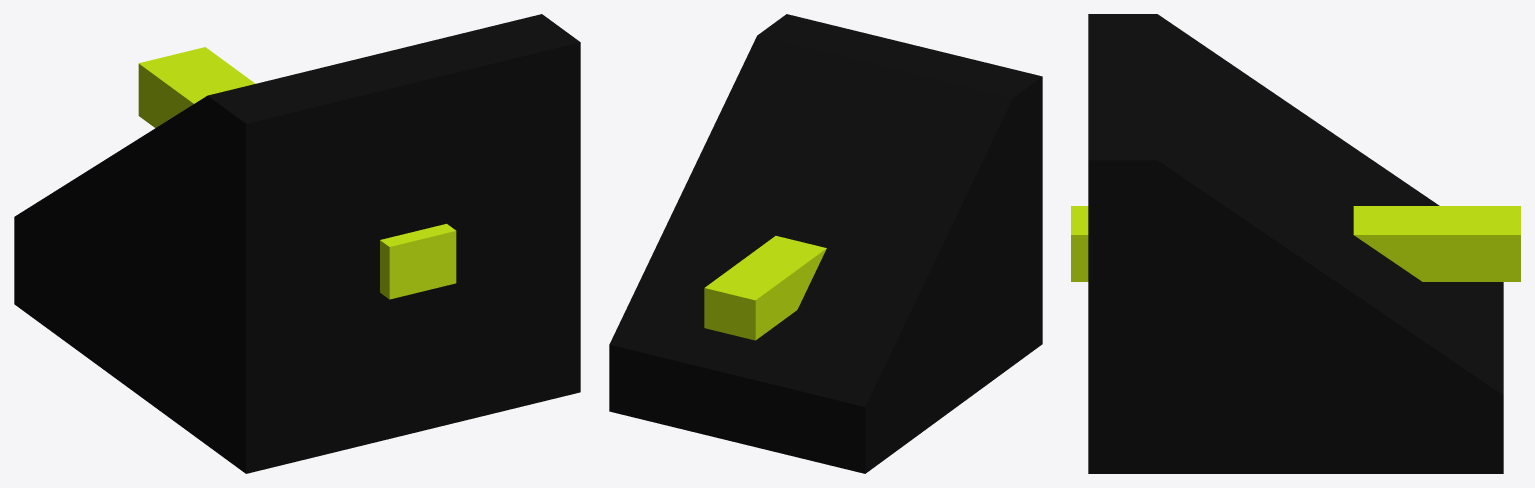
File: industrial.depot.wheel_chock.glb
3 renders of one model, left to right at view 1: azimuth 30°, elevation 25°; view 2: azimuth 150°, elevation 25°; view 3: azimuth 270°, elevation 25°, orthographic. The views are drawn at different scales.
Parts seen in each view (by area): view 1: main__rubber, main__hivis_yellow; view 2: main__rubber, main__hivis_yellow; view 3: main__rubber, main__hivis_yellow.
Boxes of the visible parts, x1=… form: main__rubber: x1=14, y1=14, x2=580, y2=473; main__hivis_yellow: x1=138, y1=47, x2=456, y2=299; main__rubber: x1=609, y1=14, x2=1042, y2=473; main__hivis_yellow: x1=704, y1=236, x2=826, y2=340; main__rubber: x1=1088, y1=14, x2=1503, y2=473; main__hivis_yellow: x1=1071, y1=206, x2=1520, y2=281.
Size of the model in its own units: 0.2 by 0.2 by 0.26.
